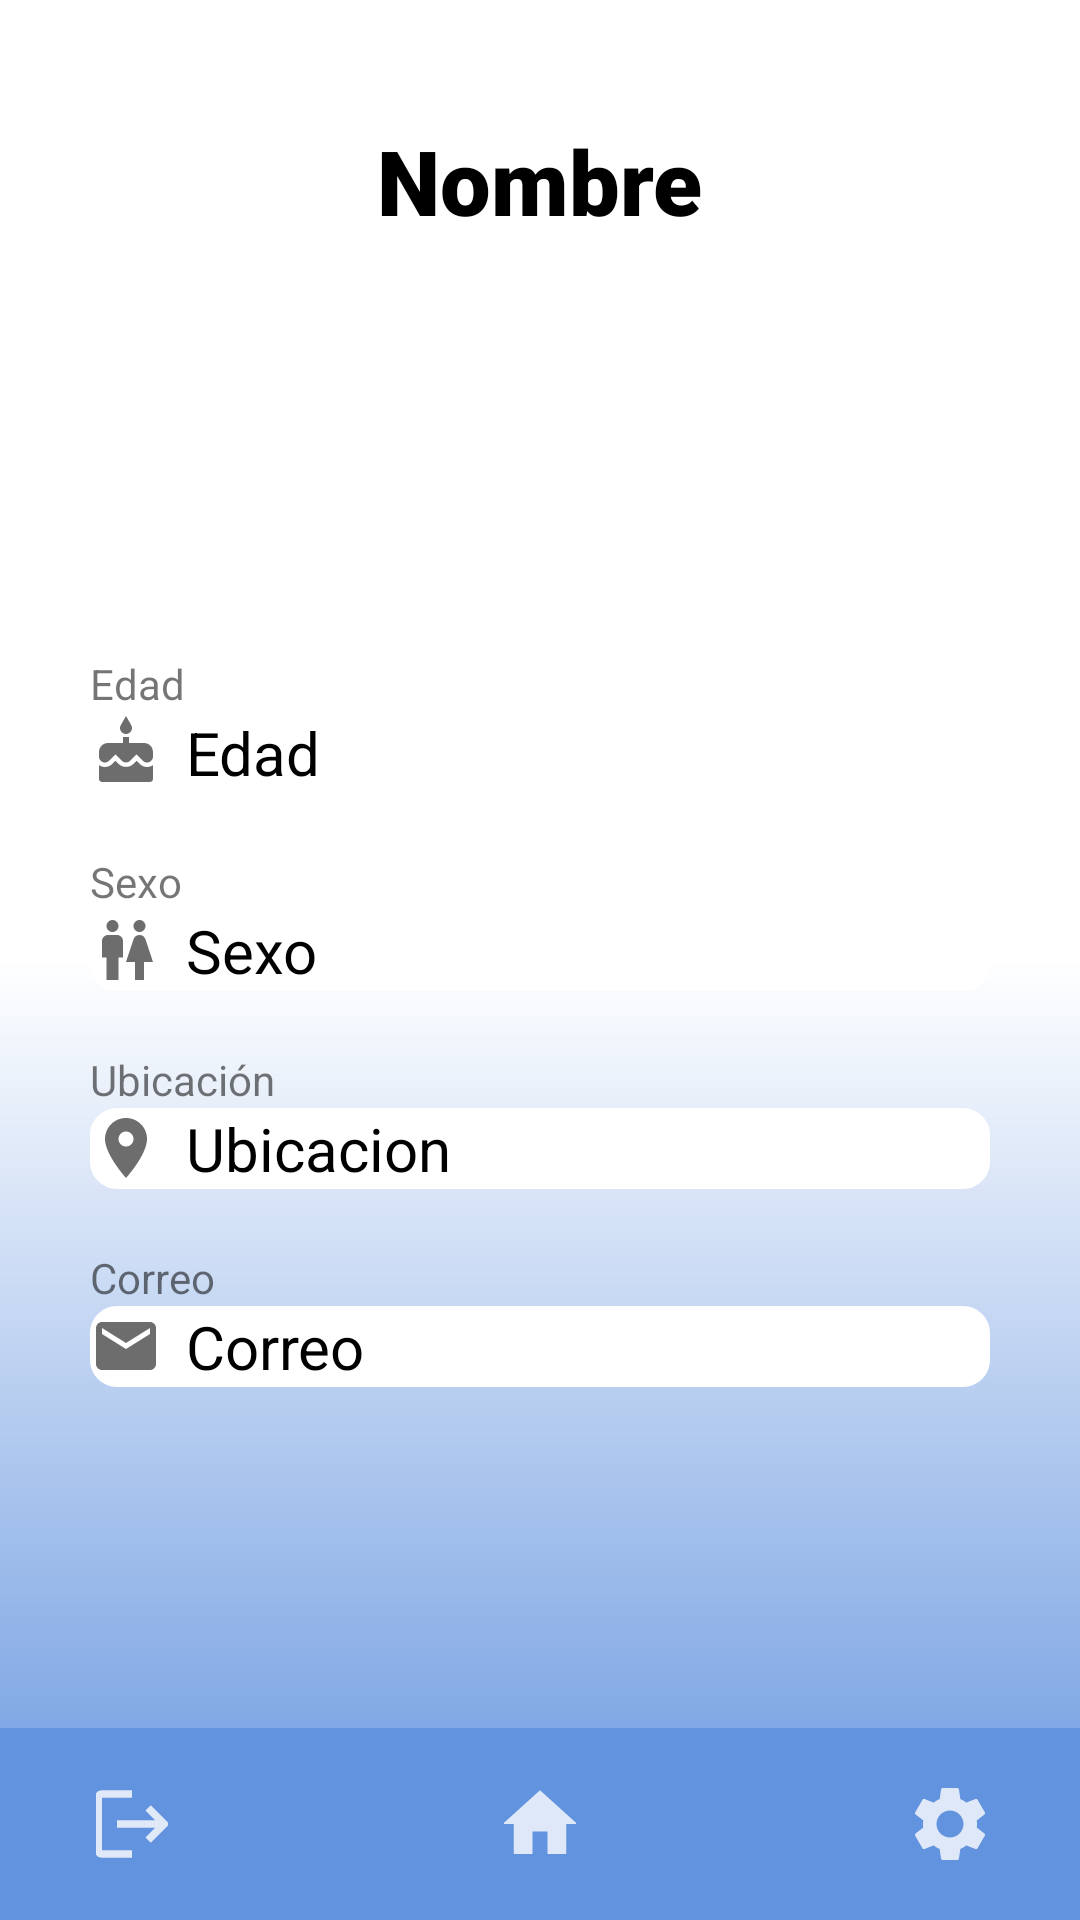

Screen size 1080px x 1920px. Icon name, then its center in pixels as point (x, y):
home: point (540, 1822)
settings: point (950, 1824)
